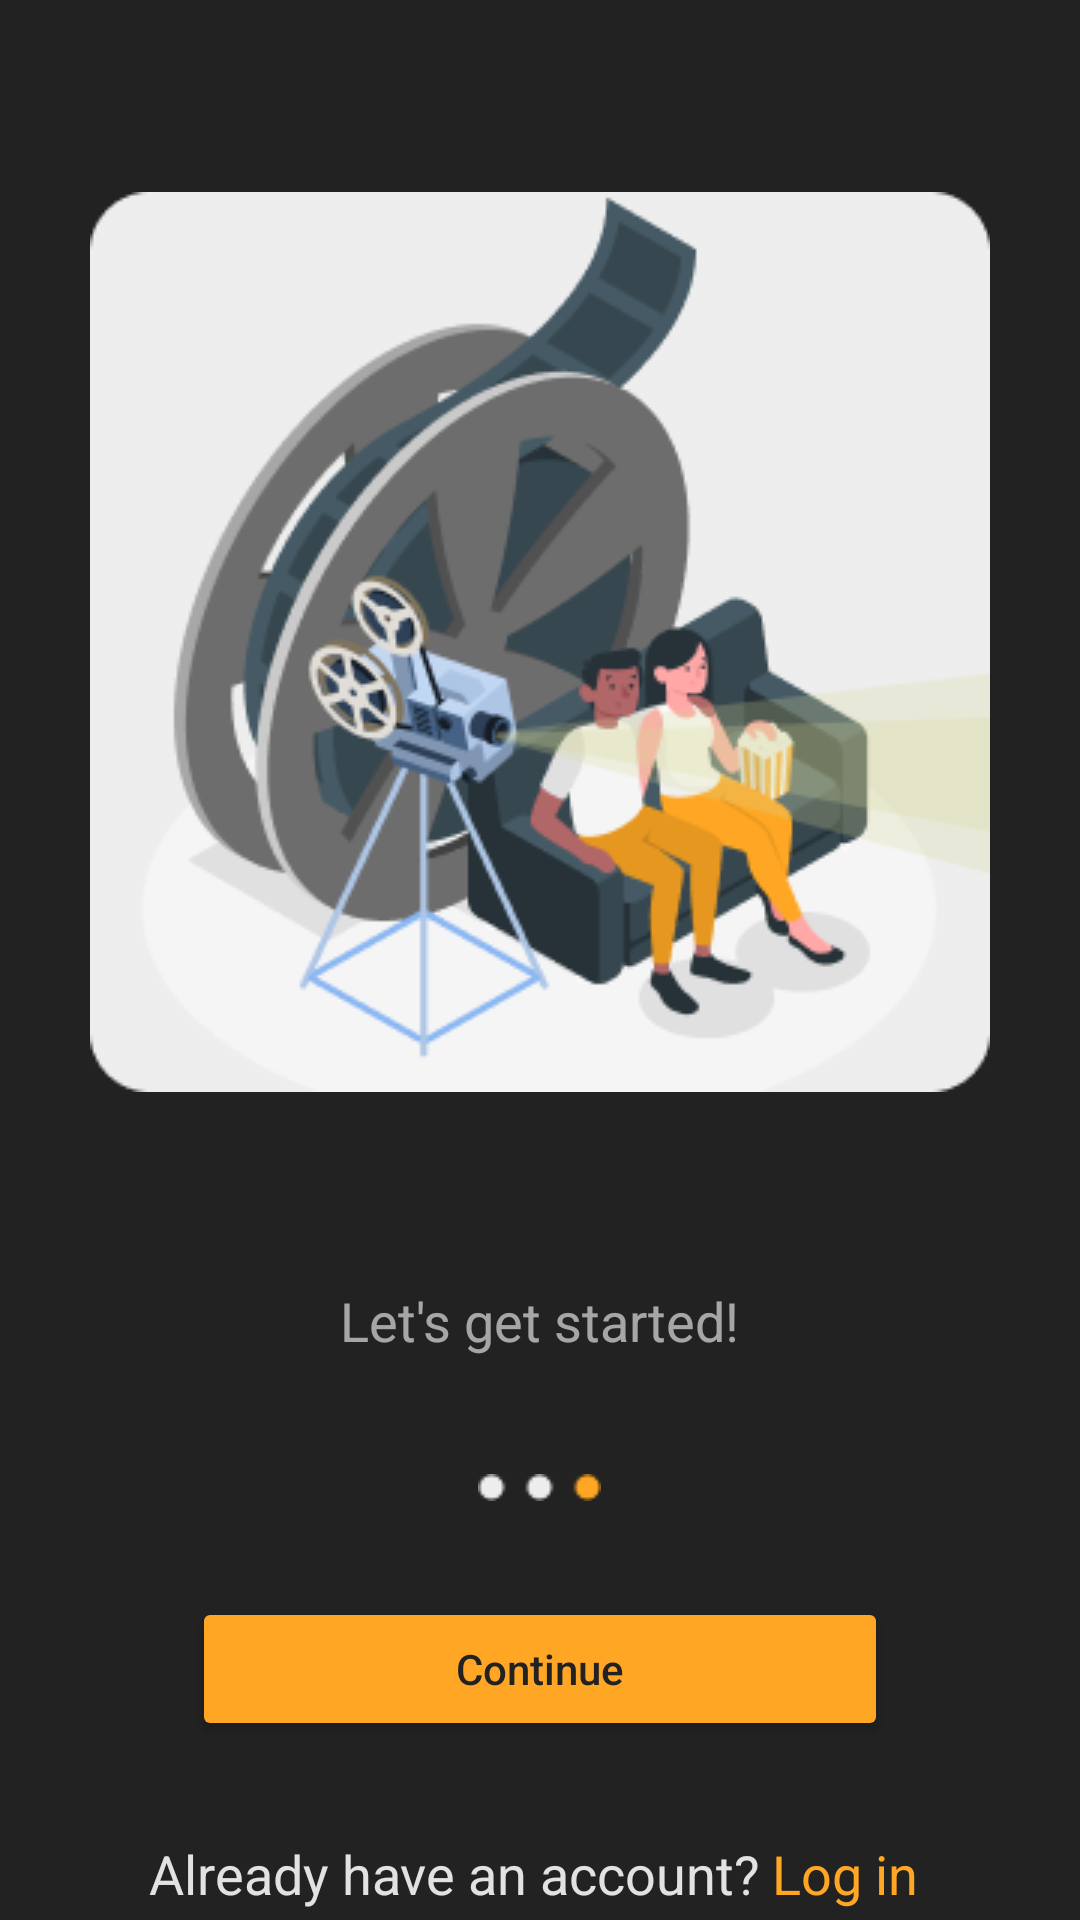

Locate icon controls on the screen. Image size 1080px x 1920px, boxes as Rect(x1, y1, x2, y2).
3 of 3: Rect(478, 1474, 601, 1501)
